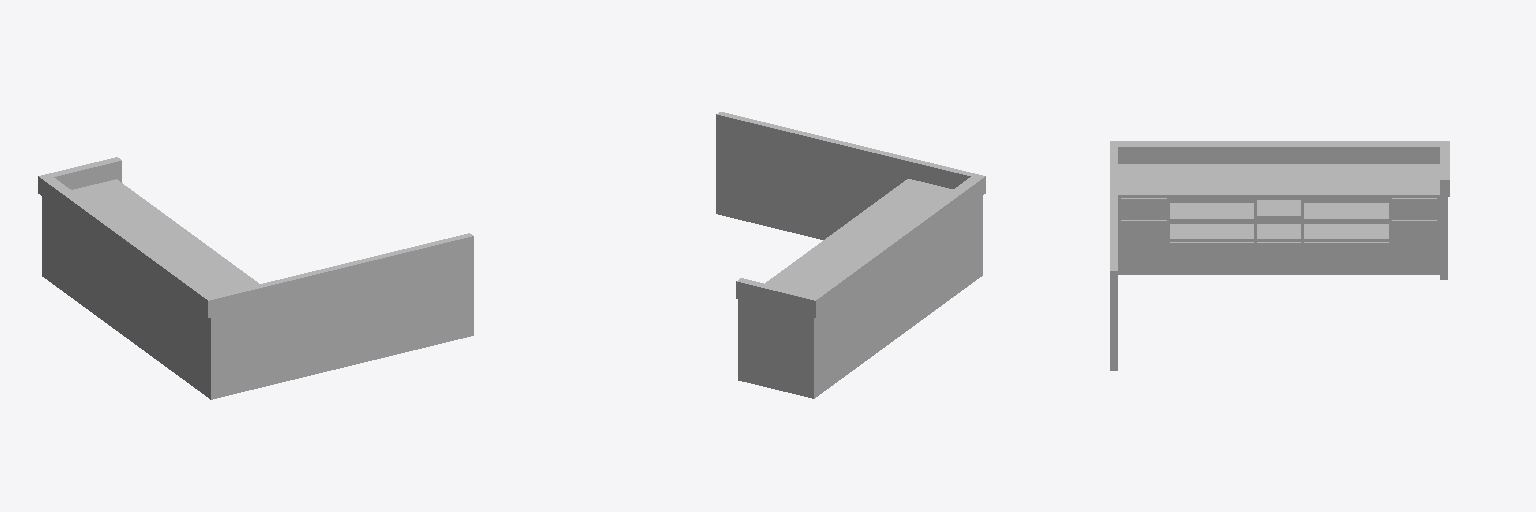
File: front_desk_asset.obj
3 renders of one model, left to right at view 1: azimuth 30°, elevation 25°; view 2: azimuth 150°, elevation 25°; view 3: azimuth 270°, elevation 25°, orthographic.
Parts seen in each view (by area): view 1: Front_Desk_Cube.001; view 2: Front_Desk_Cube.001; view 3: Front_Desk_Cube.001.
Boxes of the visible parts, box(x1,y1,x2,y2) form: Front_Desk_Cube.001: box(38, 157, 473, 399); Front_Desk_Cube.001: box(716, 112, 985, 398); Front_Desk_Cube.001: box(1110, 141, 1449, 370).
Size of the model in its own units: 326 by 117 by 362.